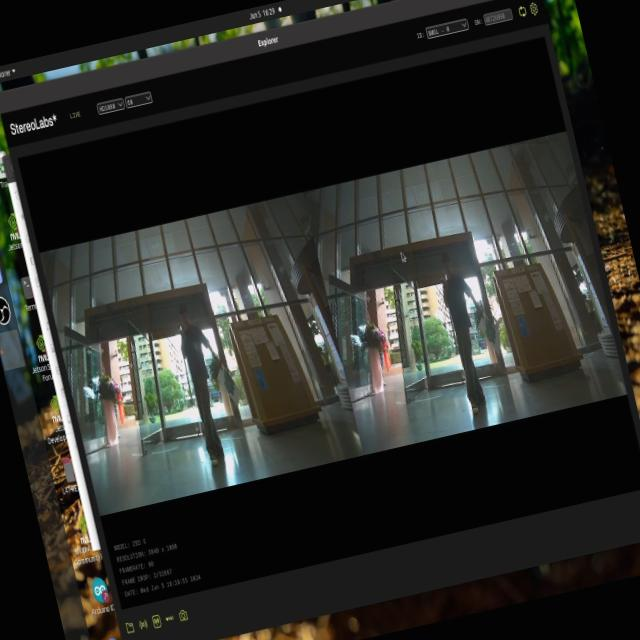green: (472, 308, 505, 351), (218, 360, 244, 402)
